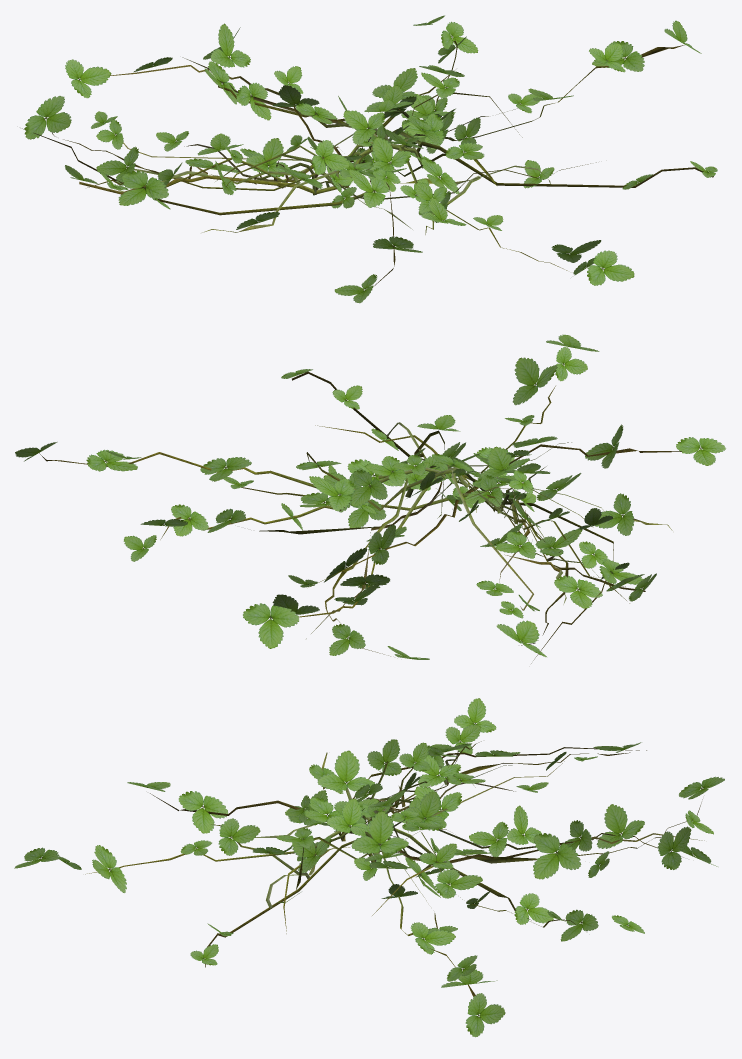
File: strawberryPlant1_lod1.fbx
3 renders of one model, top to bottom at view 1: azimuth 30°, elevation 25°; view 2: azimuth 150°, elevation 25°; view 3: azimuth 270°, elevation 25°, orthographic. The views are drawn at different scales.
Parts seen in each view (by area): view 1: strawberryPlant1_lod1; view 2: strawberryPlant1_lod1; view 3: strawberryPlant1_lod1.
Boxes of the visible parts, left/top/right/bottom form: strawberryPlant1_lod1: left=22, top=15, right=717, bottom=303; strawberryPlant1_lod1: left=15, top=334, right=725, bottom=663; strawberryPlant1_lod1: left=14, top=698, right=724, bottom=1037.
Bounding box in the file's own units: 140 × 16.18 × 140.
